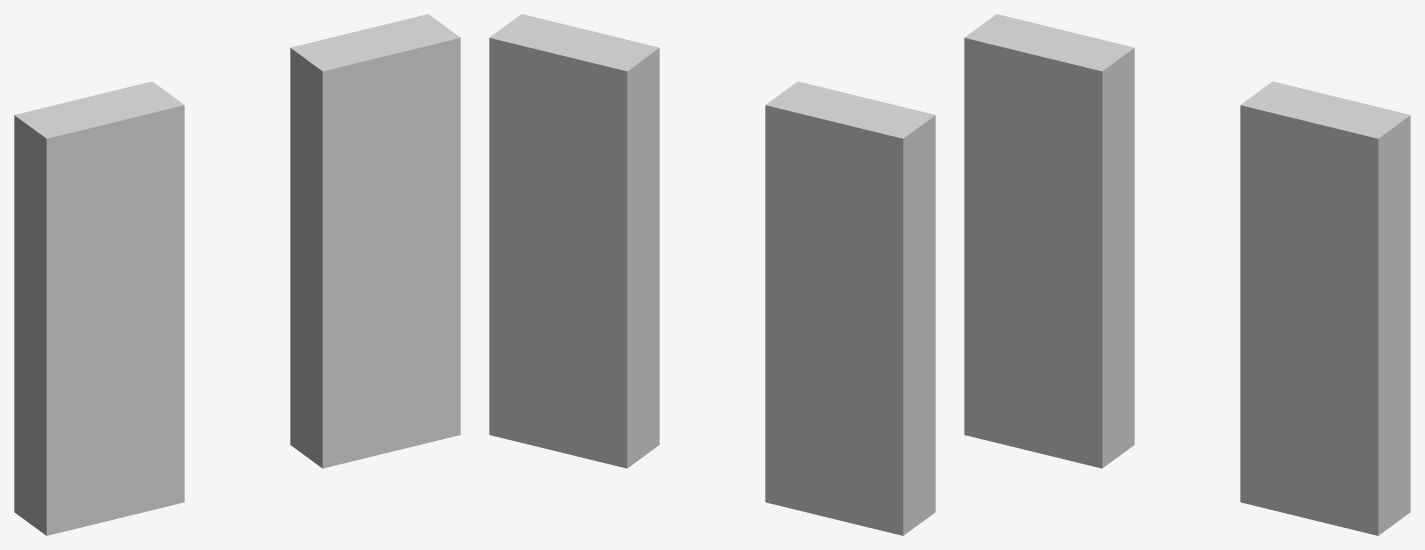
The model's file is contact_net_door.obj.
3 renders of one model, left to right at view 1: azimuth 30°, elevation 25°; view 2: azimuth 150°, elevation 25°; view 3: azimuth 330°, elevation 25°, orthographic.
Visible parts, largest first — view 1: 1; view 2: 1; view 3: 1.
Boxes of the visible parts, box(x1,y1,x2,y2) form: 1: box(14, 14, 460, 535); 1: box(489, 14, 935, 535); 1: box(964, 14, 1410, 535).
Bounding box in the file's own units: 1.2 × 1.1 × 0.163.
1 material, 1 textured.
